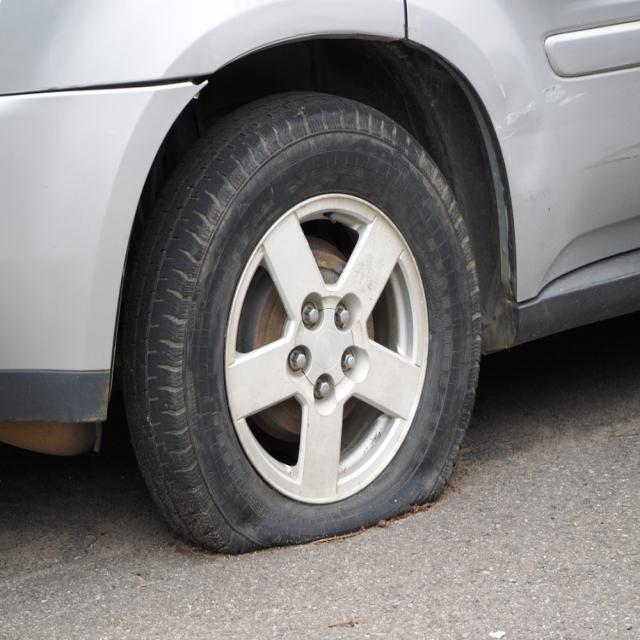scratch: (494, 81, 584, 142)
tire flat: (124, 90, 480, 557)
